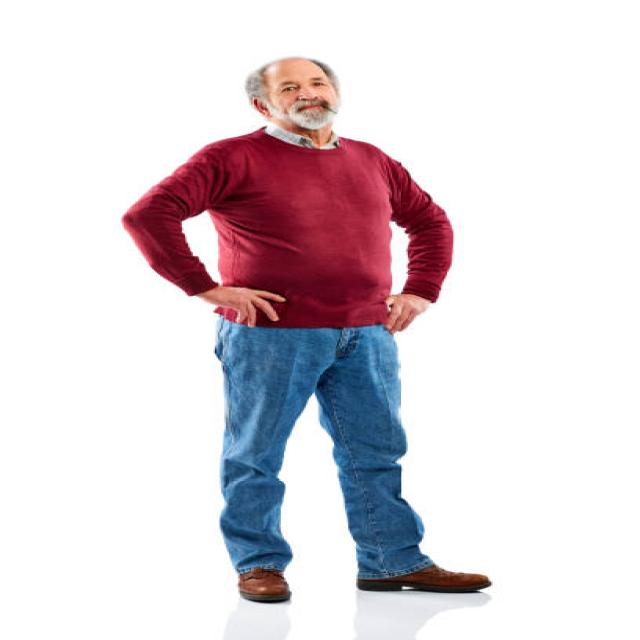Edited images: (101, 47, 510, 618)
